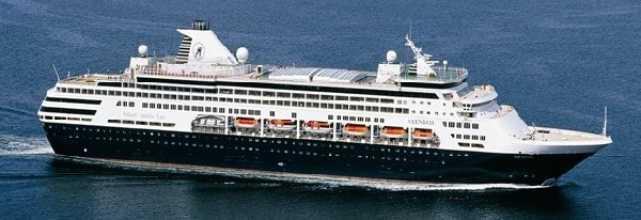youlun: (37, 17, 614, 181)
